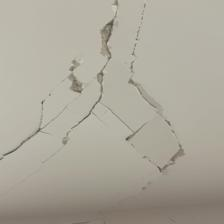Medium: (8, 22, 126, 152)
